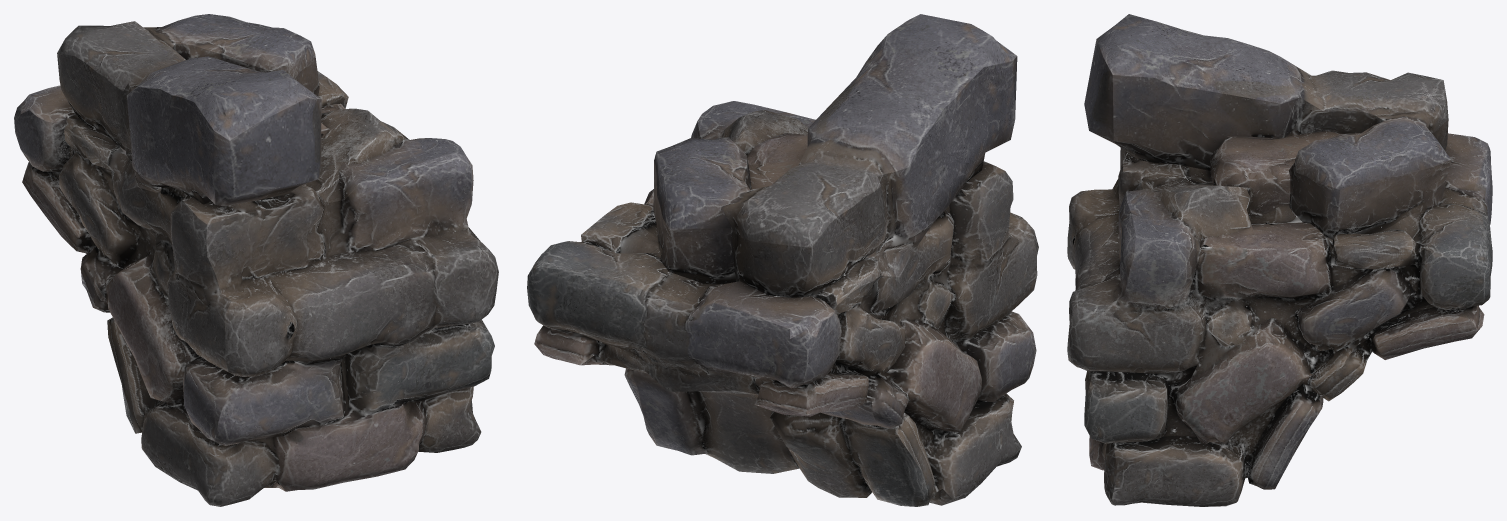
Rendered from SM_Ruin_06.fbx.
3 views of the same model, side by side, from view 1: azimuth 30°, elevation 25°; view 2: azimuth 150°, elevation 25°; view 3: azimuth 270°, elevation 25° (orthographic). The views are drawn at different scales.
Parts seen in each view (by area): view 1: SM_Ruin_06_LOD0; view 2: SM_Ruin_06_LOD0; view 3: SM_Ruin_06_LOD0.
Boxes of the visible parts, x1=… form: SM_Ruin_06_LOD0: x1=14, y1=14, x2=498, y2=506; SM_Ruin_06_LOD0: x1=527, y1=14, x2=1038, y2=506; SM_Ruin_06_LOD0: x1=1067, y1=14, x2=1492, y2=506.
Bounding box in the file's own units: 342 × 472 × 469.
